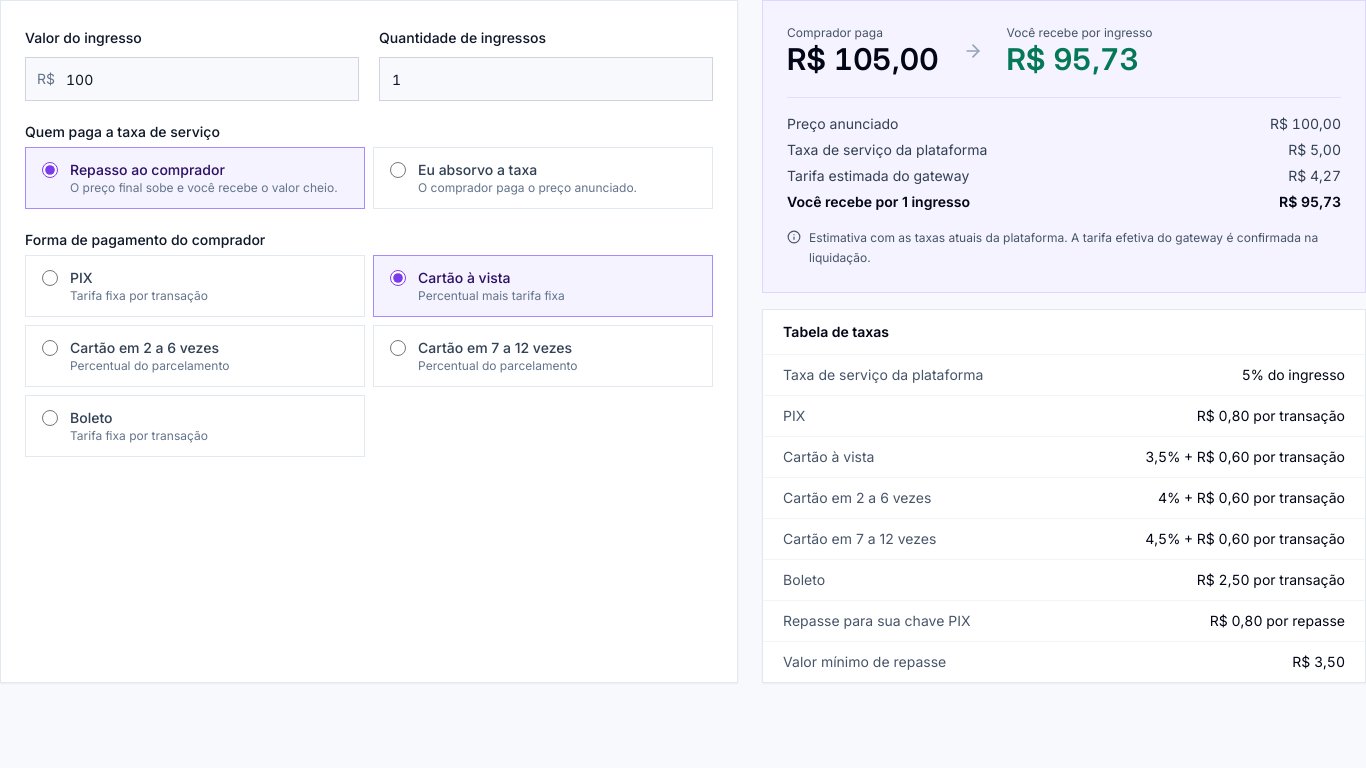
FeeCalculator › shows what the buyer pays and what the organizer receives for the chosen method
Expected: the text with test id "calculator-organizer-receives" reads "R$ 95,73", [1006,41,1139,77]
Expected: the text with test id "calculator-buyer-pays" reads "R$ 105,00", [787,41,938,77]
Click the radio button labelled "PIX Tarifa fixa por transação" at (50, 278), box [42,270,58,286]
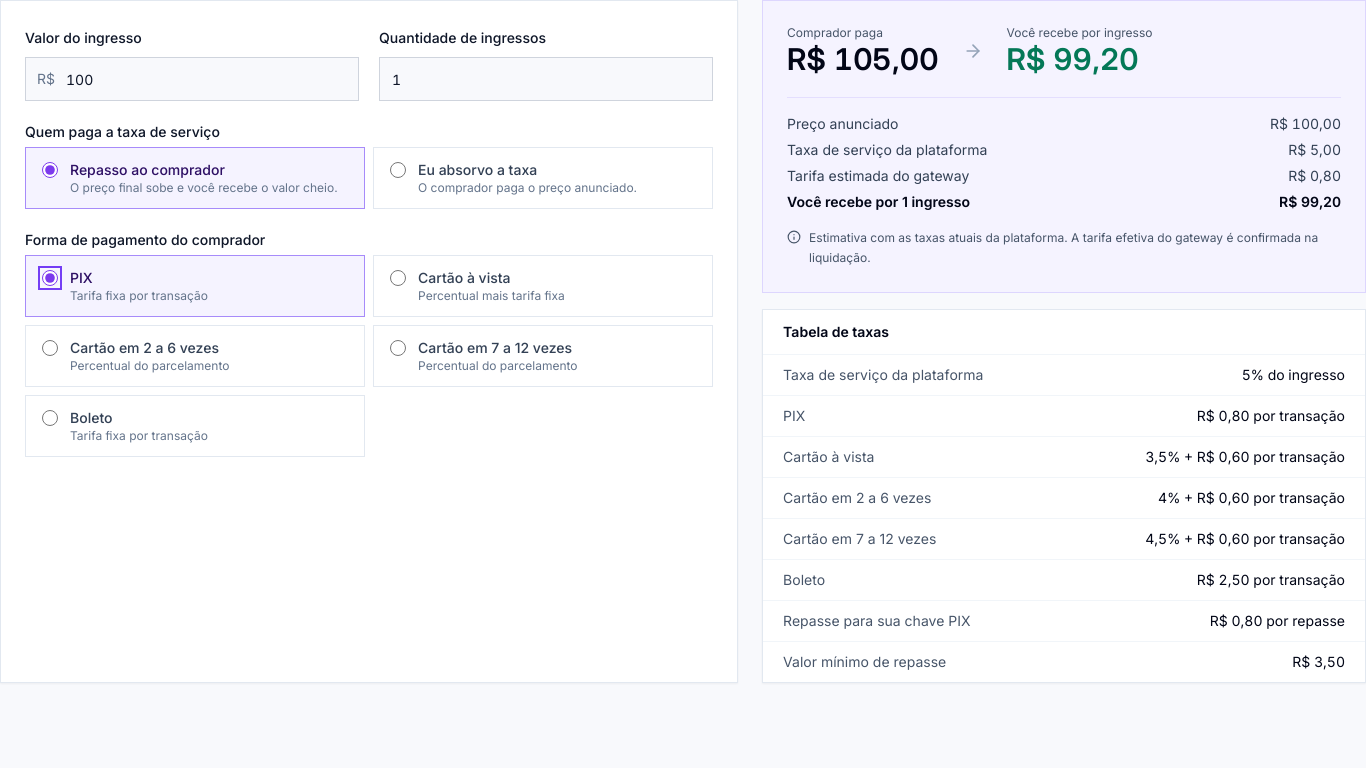
Expected: the text with test id "calculator-organizer-receives" reads "R$ 99,20", [1006,41,1139,77]
Click the radio button labelled "Eu absorvo a taxa O comprador paga o preço anunciado." at (398, 170), box [390,162,406,178]
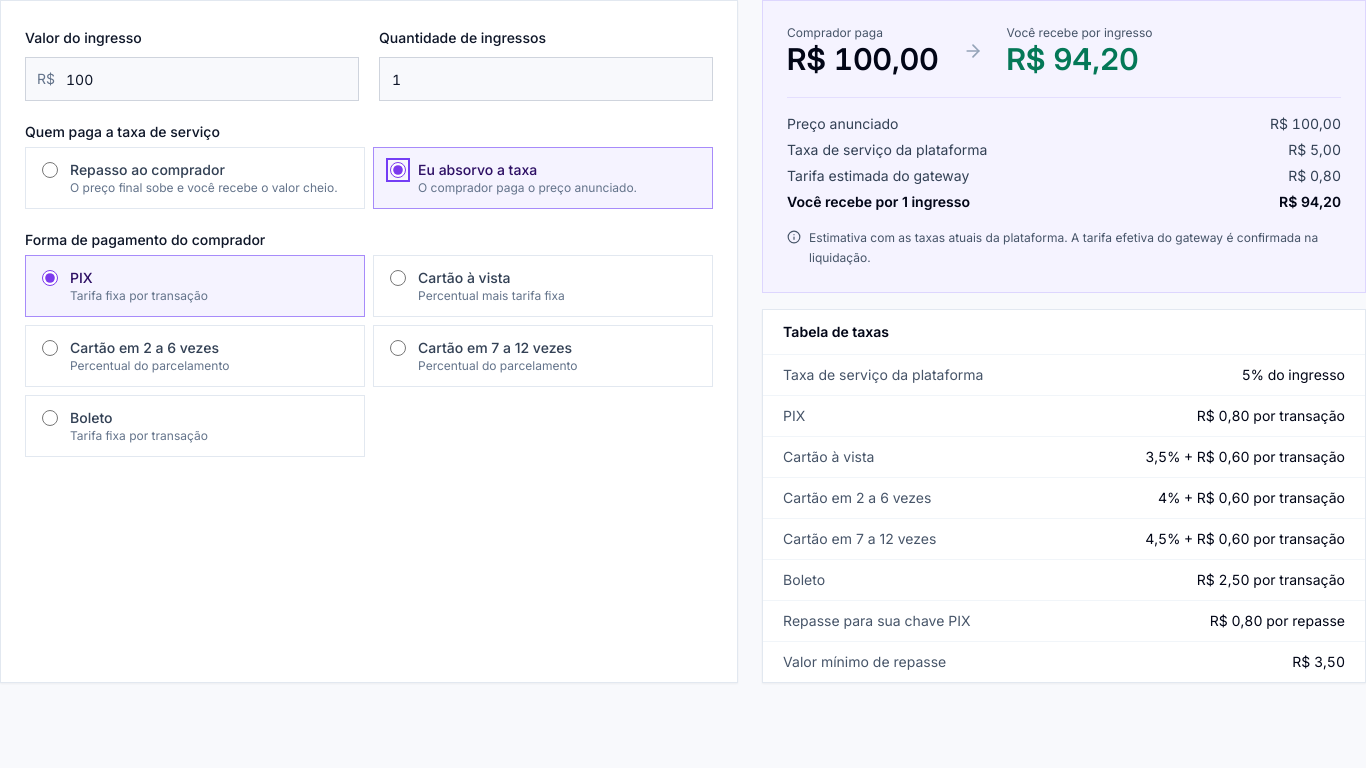
Expected: the text with test id "calculator-buyer-pays" reads "R$ 100,00", [787,41,938,77]
Expected: the text with test id "calculator-organizer-receives" reads "R$ 94,20", [1006,41,1139,77]
